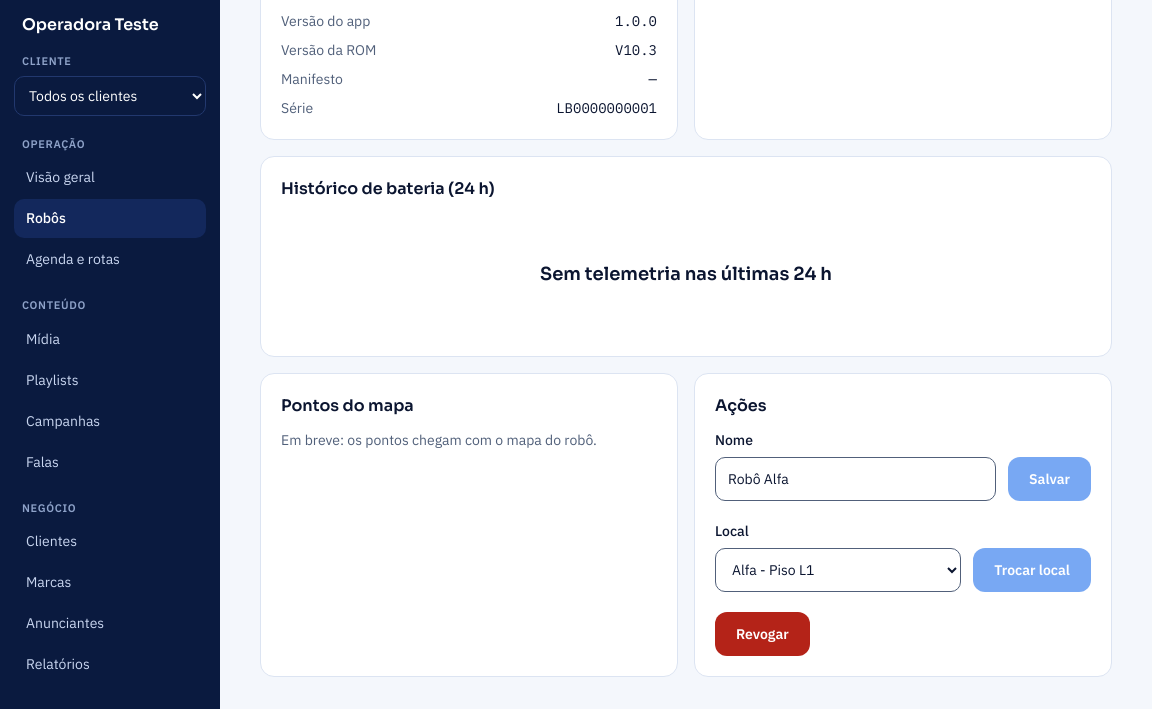
robot actions › moves the robot to a site of another client
(page scrolled)
Select "Beta - Piso L2" in the dropdown labelled "Local" at (838, 570), box [715,548,961,592]
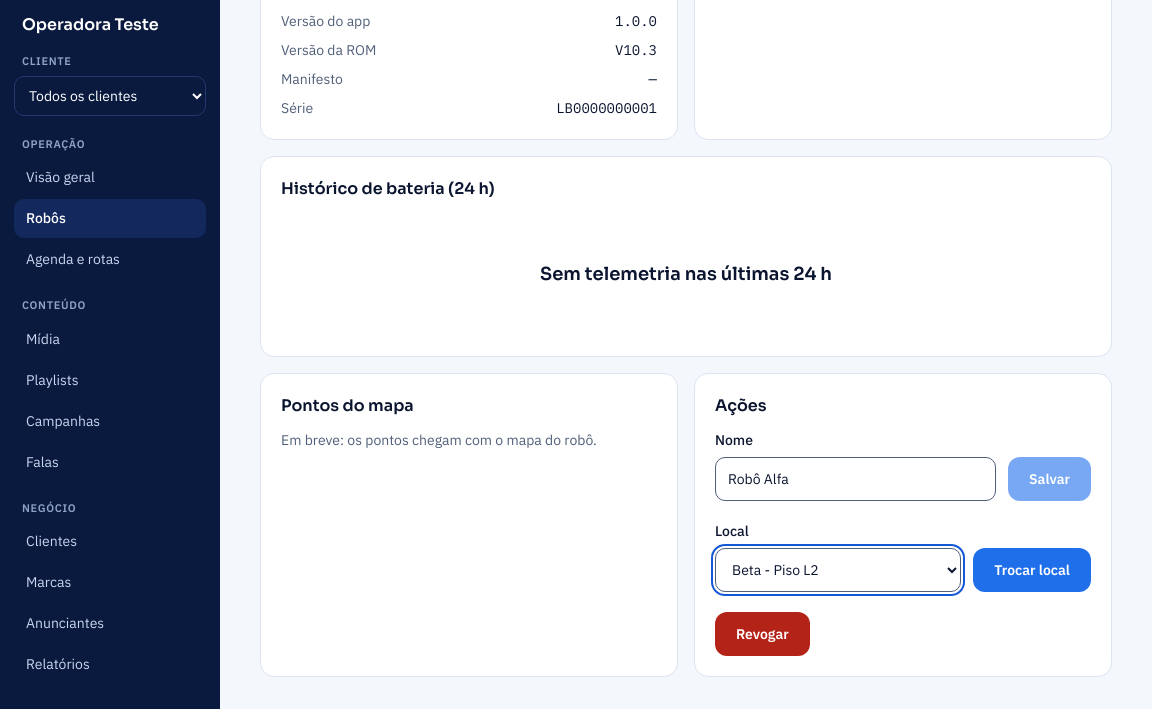
Click the button "Trocar local" at (1032, 570), box [973,548,1091,592]
(page scrolled)
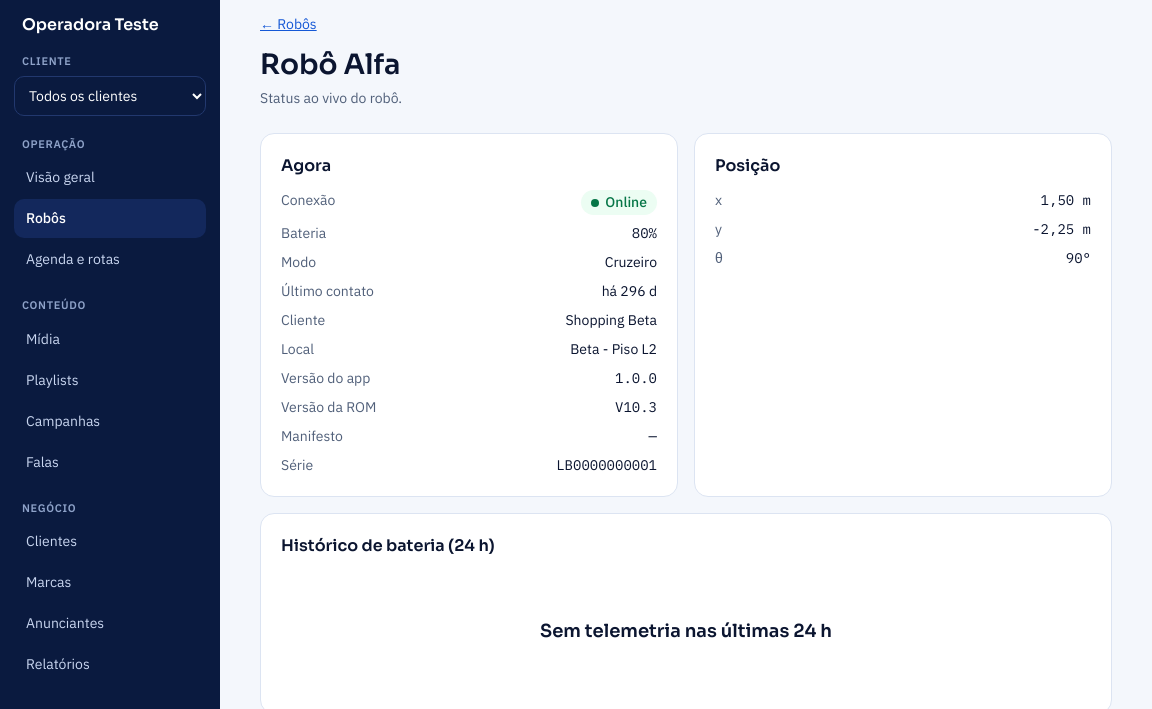
Check: the text "Shopping Beta" is shown, box [566,310,657,331]
Check: the text "Beta - Piso L2" is shown, box [570,339,657,360]
